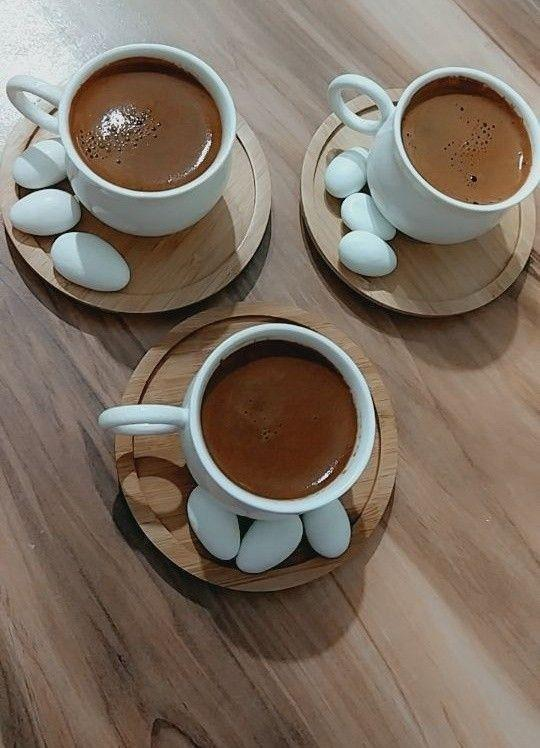cup-handle: (101, 319, 380, 523), (4, 41, 237, 236), (323, 66, 539, 247)
